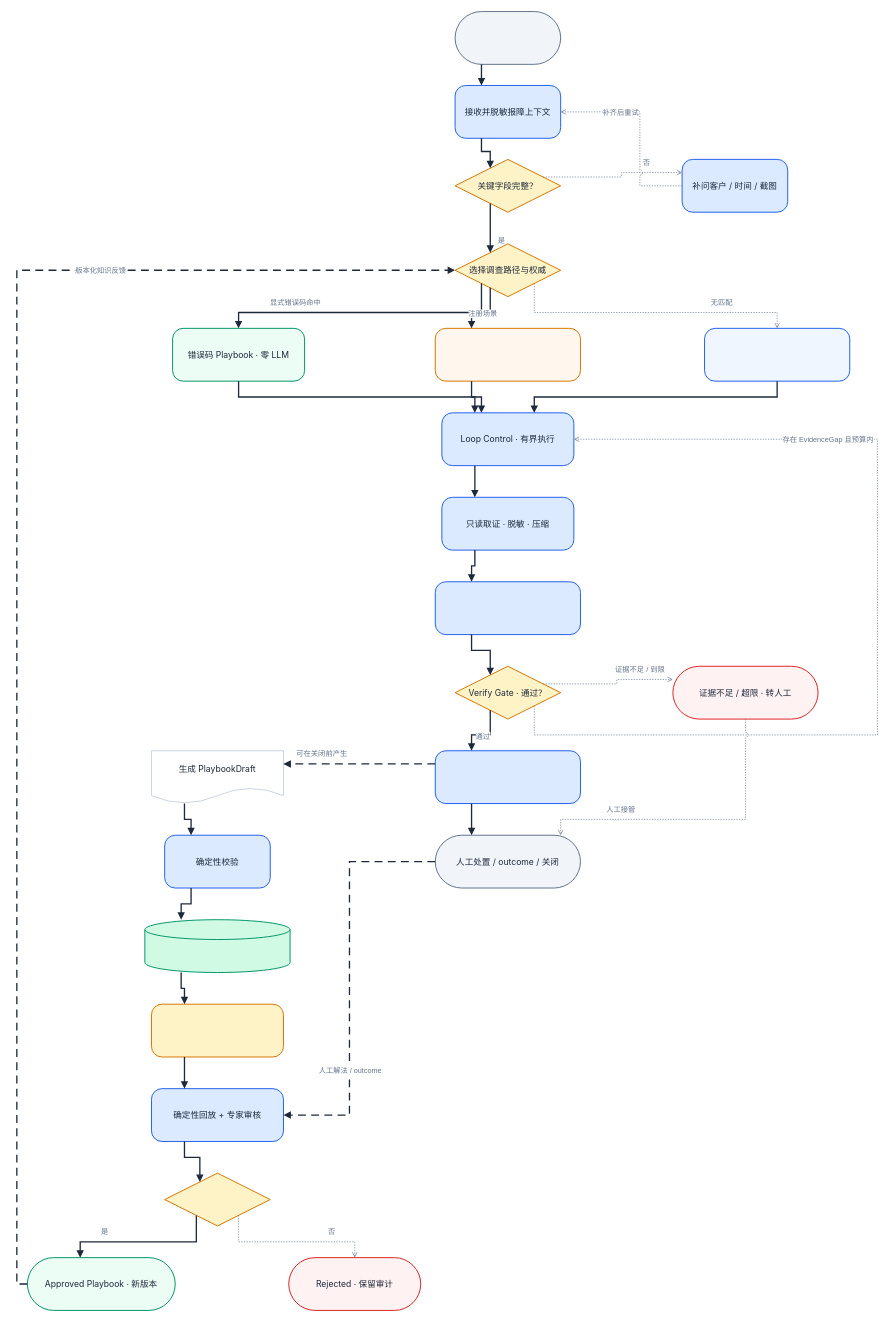
Image size: 894x1323. Some labels were removed from this diagram. Each missing label, with the box of its shape:
Candidate · 幂等 / 不可路由: (144, 919, 290, 973)
Diagnosis · 定位 / 排除 / 假设: (434, 750, 581, 804)
OPEN_DISCOVERY · 受限 Agent: (704, 328, 850, 381)
企微 @ / Web / 告警: (454, 11, 561, 65)
候选结论 · 规则 / 受限 Agent: (434, 581, 581, 635)
场景 Playbook · 注册键提议: (434, 328, 581, 381)
满足晋升资格？: (164, 1172, 270, 1226)
结构化反证 · P2 影子: (151, 1003, 284, 1057)
